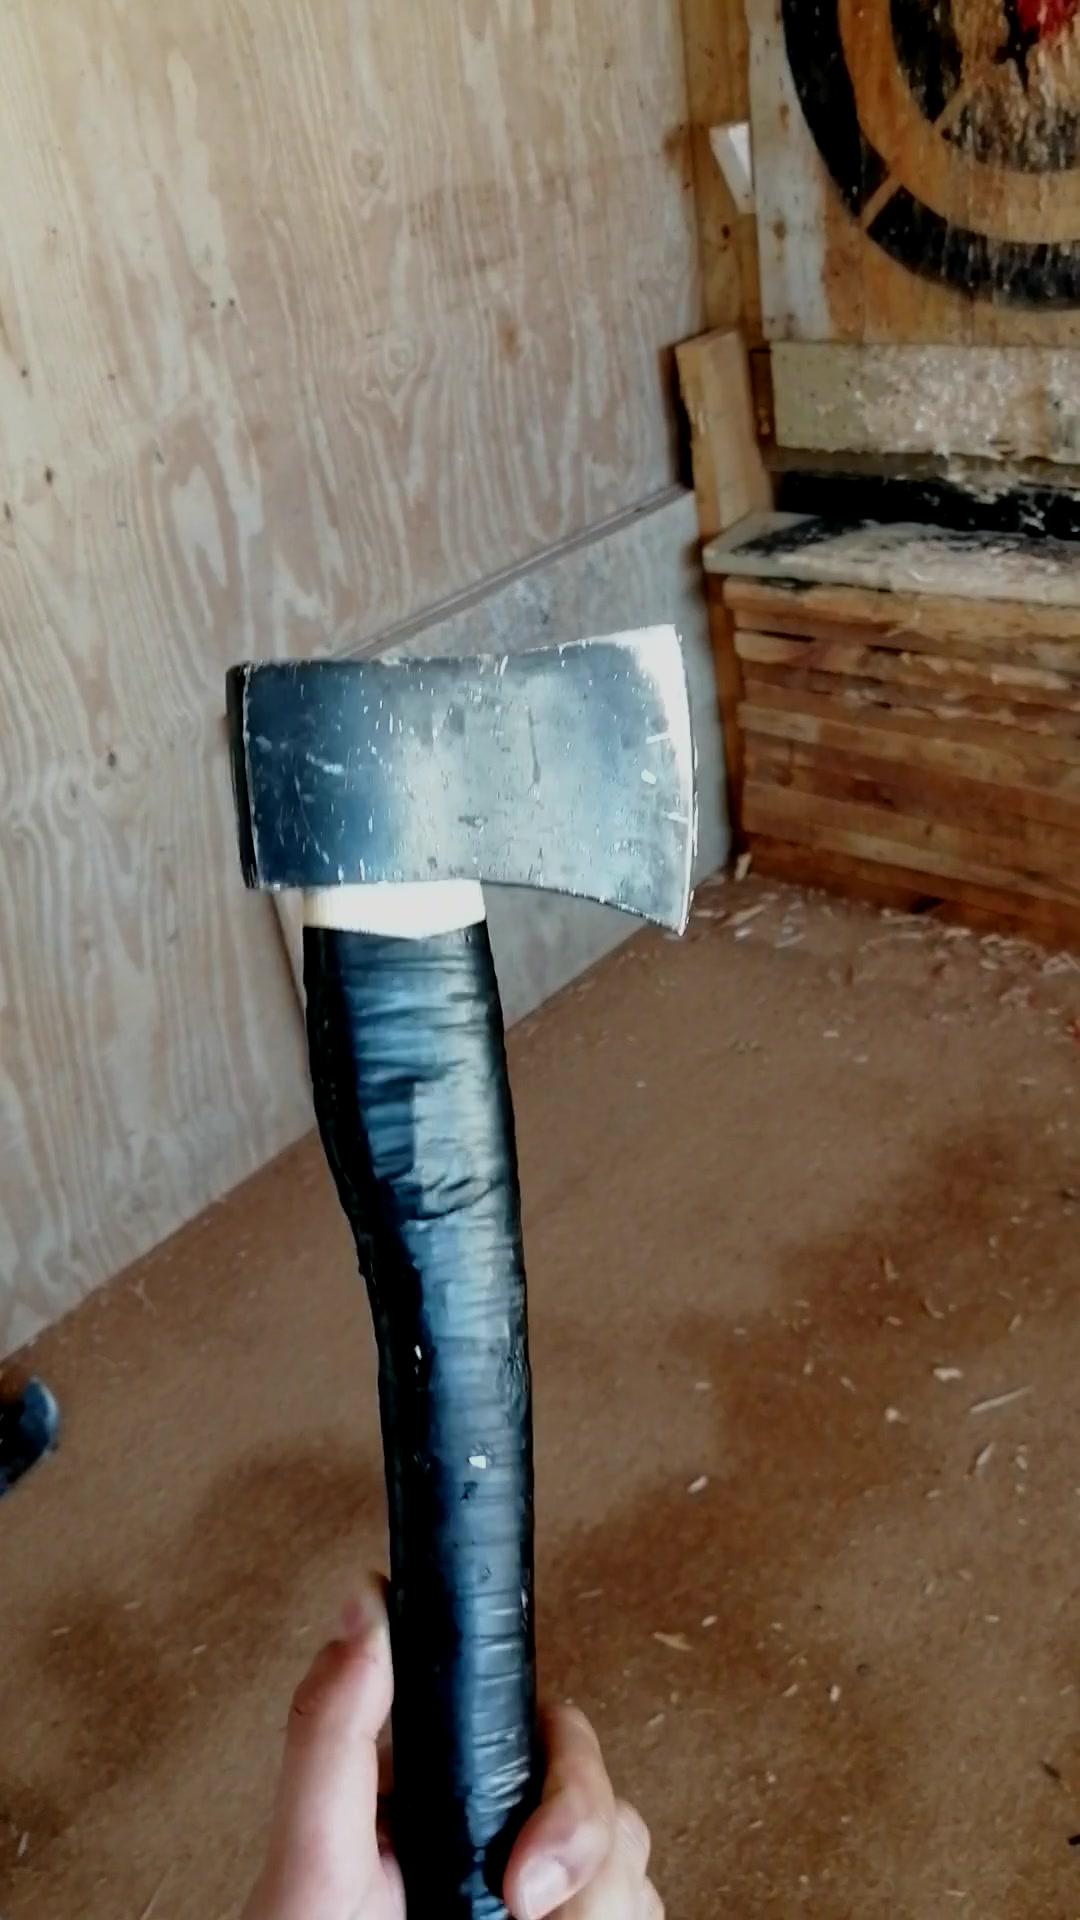Hand Axe: (216, 620, 708, 952)
